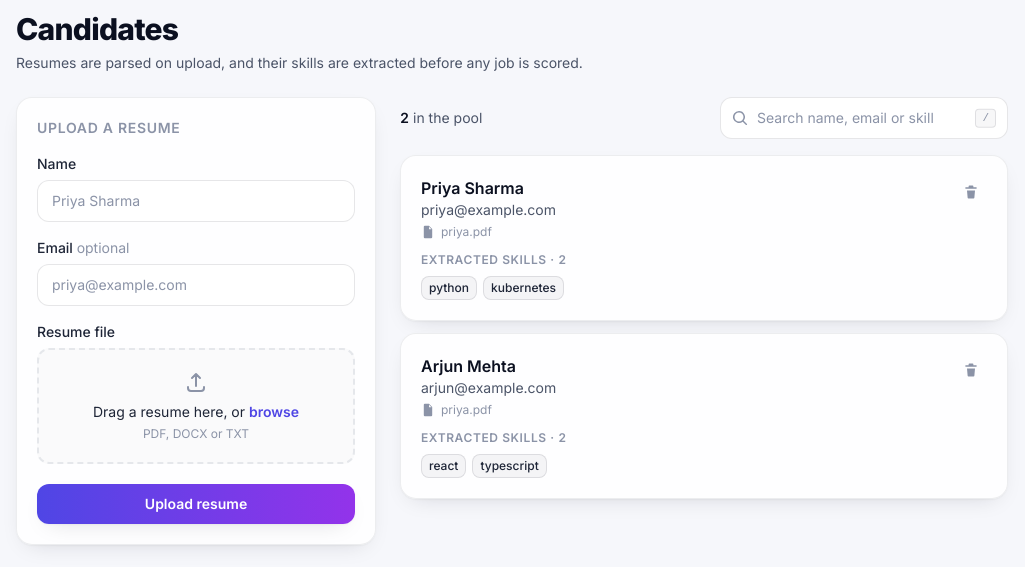
Test: CandidatesPage › searching › leaves "/" alone while typing in a field
Check: the text "Priya Sharma" is shown, box [421,178,524,198]
Click the field labelled "Name" at coordinates (196, 201), box [37,180,355,222]
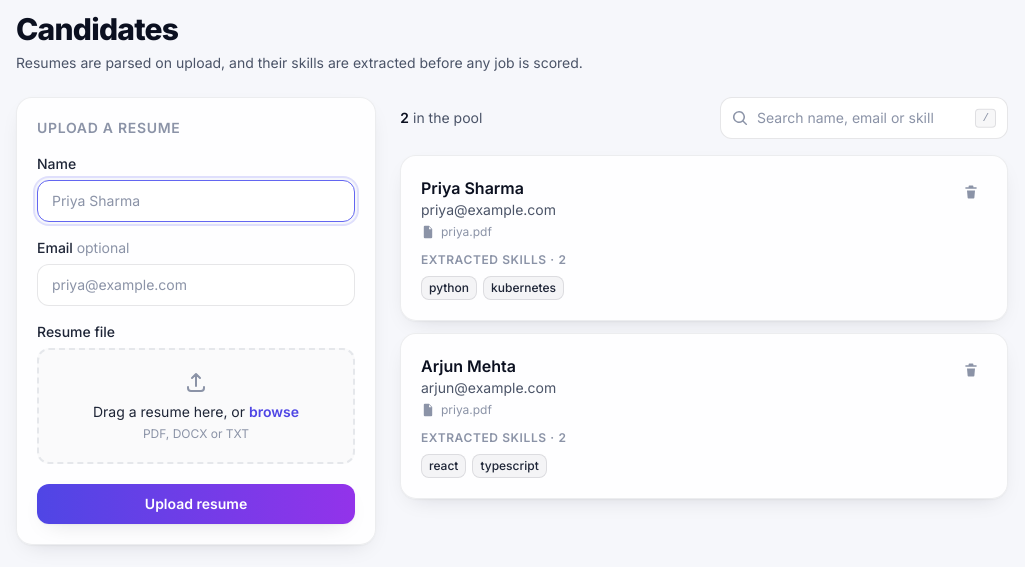
Type keys "a/b"
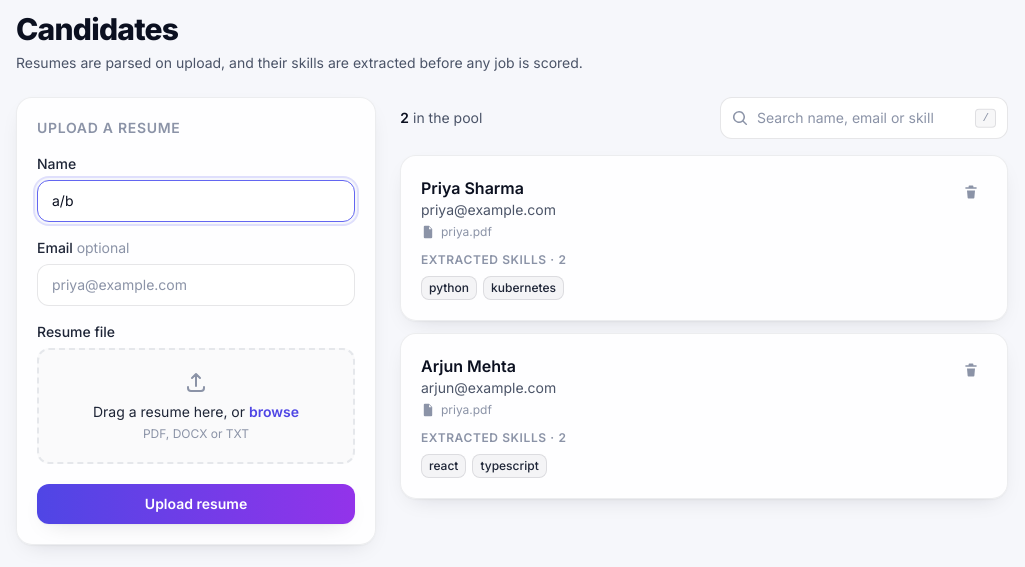
Check: the field labelled "Name" holds "a/b", box [37,180,355,222]
